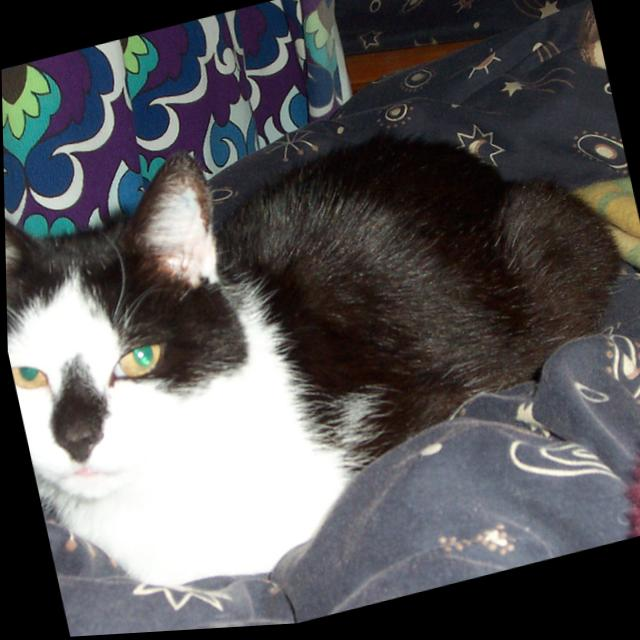animals: (2, 128, 240, 472)
